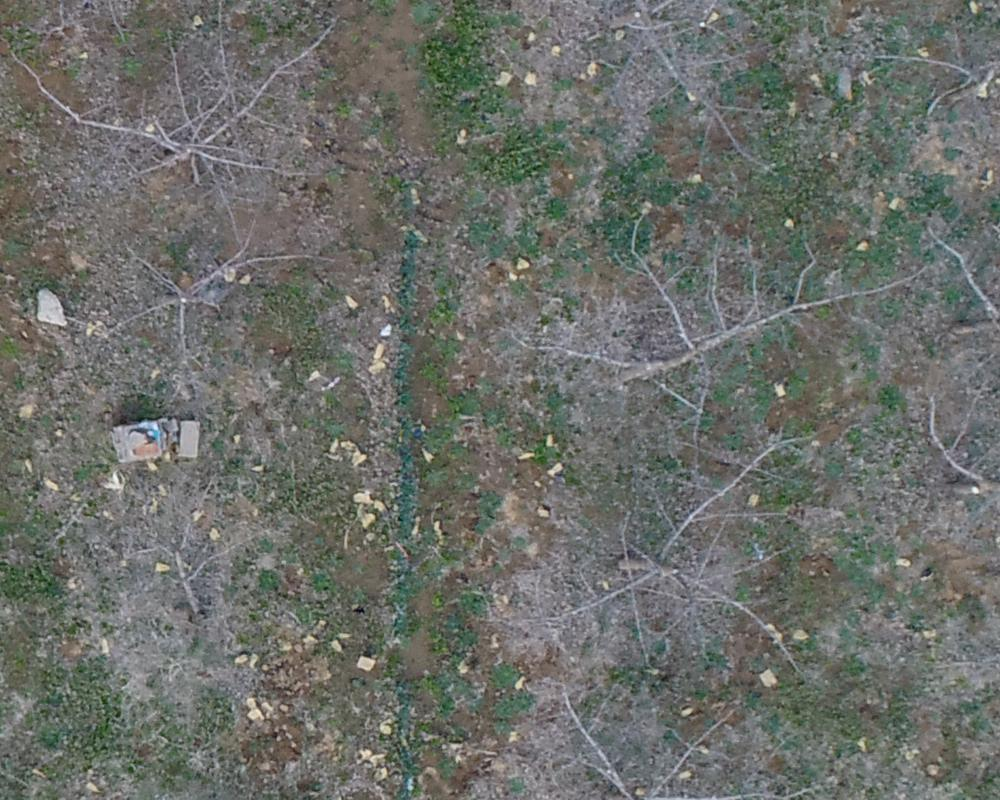apple: (502, 202, 926, 423), (522, 443, 876, 693), (22, 10, 367, 217), (522, 10, 865, 167), (63, 230, 337, 350), (528, 690, 831, 790), (96, 508, 283, 623)
